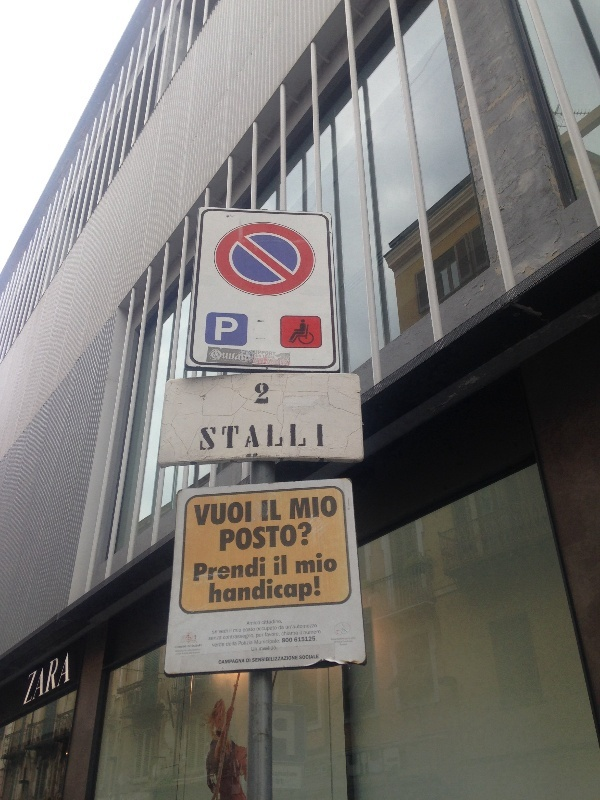text: (33, 649, 48, 712), (49, 649, 64, 712), (209, 576, 224, 608), (225, 576, 240, 608), (241, 576, 256, 608), (257, 576, 272, 608), (273, 576, 288, 608), (289, 576, 304, 608), (305, 576, 320, 608), (225, 521, 240, 553), (241, 521, 256, 553), (257, 521, 272, 553), (273, 521, 288, 553), (289, 521, 304, 553), (209, 422, 224, 454), (225, 422, 240, 454), (241, 422, 256, 454), (257, 422, 272, 454), (273, 422, 288, 454), (289, 422, 304, 454), (305, 422, 320, 454), (209, 499, 224, 528), (225, 499, 240, 528), (209, 556, 224, 584), (225, 556, 240, 584), (241, 556, 256, 584), (225, 314, 239, 344), (194, 499, 208, 528), (194, 556, 208, 584), (65, 649, 71, 712), (305, 495, 320, 520), (321, 495, 336, 520), (273, 554, 288, 578), (305, 551, 320, 575), (321, 551, 336, 575), (290, 495, 304, 520), (241, 499, 253, 528), (257, 383, 270, 408), (225, 349, 240, 370), (241, 349, 256, 370), (257, 349, 272, 370), (273, 349, 288, 370), (305, 521, 314, 553), (199, 422, 208, 454), (261, 498, 272, 523), (215, 314, 224, 344), (28, 649, 32, 712), (257, 556, 266, 584), (273, 498, 282, 523), (295, 551, 304, 575), (177, 644, 192, 658), (337, 638, 352, 649), (321, 422, 326, 454), (193, 644, 203, 658), (220, 521, 224, 553), (257, 655, 272, 663), (273, 655, 288, 663), (257, 639, 272, 646), (225, 634, 240, 641), (305, 654, 319, 661), (241, 634, 255, 641), (225, 658, 240, 664), (257, 633, 272, 639), (257, 626, 272, 632), (241, 640, 253, 647), (226, 641, 240, 647), (289, 655, 299, 663), (259, 645, 272, 651), (243, 628, 256, 634), (305, 637, 316, 644), (305, 630, 320, 635), (209, 636, 224, 641), (294, 637, 304, 644), (330, 638, 336, 649), (212, 643, 224, 648), (289, 631, 299, 637), (292, 624, 304, 629), (305, 624, 317, 629), (262, 620, 272, 626), (273, 639, 281, 646), (353, 638, 358, 649), (213, 630, 224, 635), (273, 620, 282, 626), (246, 658, 256, 663), (230, 629, 240, 634), (254, 383, 256, 408), (265, 632, 272, 638), (273, 632, 280, 638), (222, 349, 224, 370), (248, 621, 256, 626), (218, 658, 224, 664), (282, 638, 288, 644), (282, 631, 288, 637), (279, 626, 288, 630), (299, 654, 304, 661), (252, 655, 256, 663), (321, 576, 322, 608), (273, 626, 278, 632), (174, 644, 176, 658), (233, 629, 240, 633), (251, 647, 256, 652), (219, 629, 224, 634), (337, 495, 338, 520), (241, 658, 245, 664), (273, 645, 277, 651), (289, 638, 293, 644), (300, 630, 304, 636), (337, 551, 338, 575), (289, 349, 290, 370), (257, 621, 261, 626), (225, 629, 228, 634), (254, 639, 256, 646), (286, 626, 288, 630), (289, 626, 291, 630), (239, 640, 240, 647), (257, 647, 258, 652), (303, 630, 304, 635), (321, 630, 322, 635), (241, 629, 242, 633)
